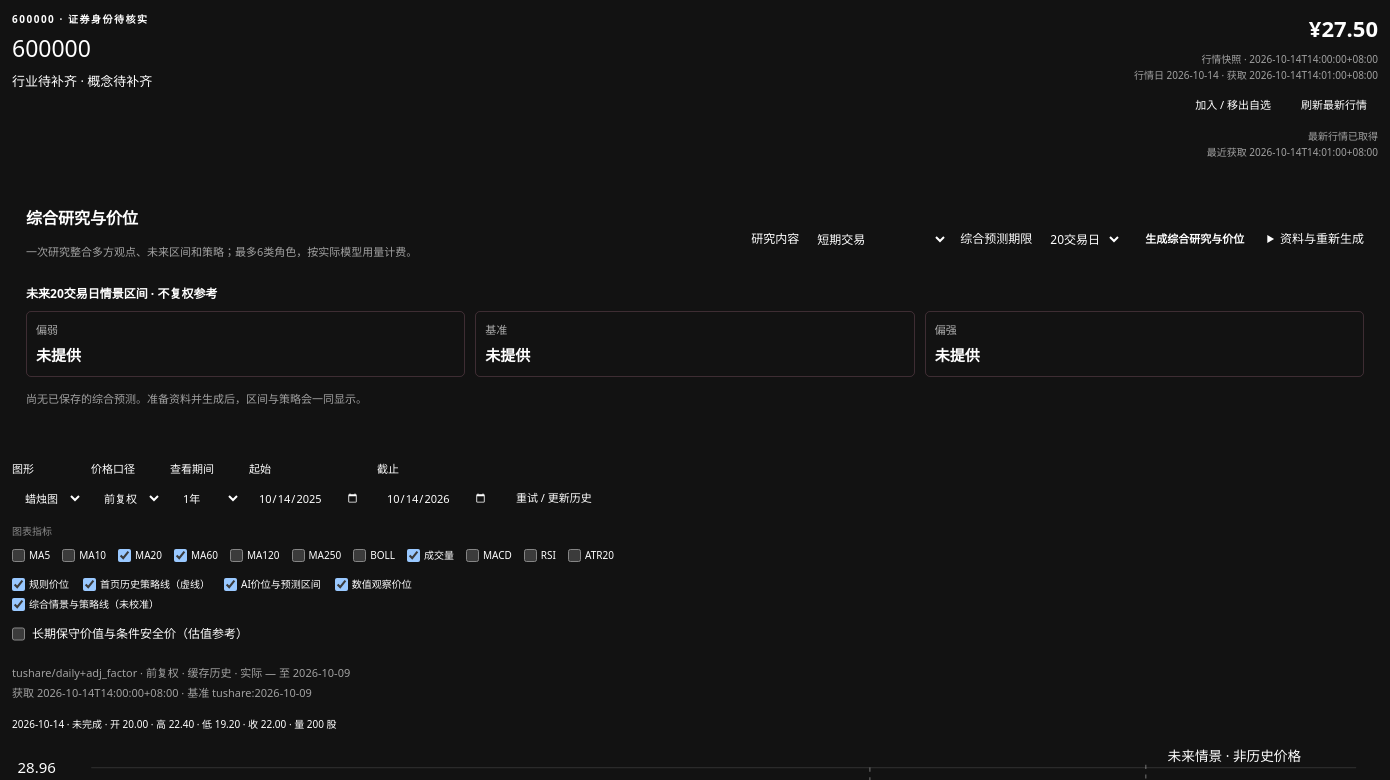
Test: keeps already obtained quote and temporary bar after a refresh error
Click the button "刷新最新行情": (1334, 105) top-left (1290, 89), bottom-right (1378, 122)
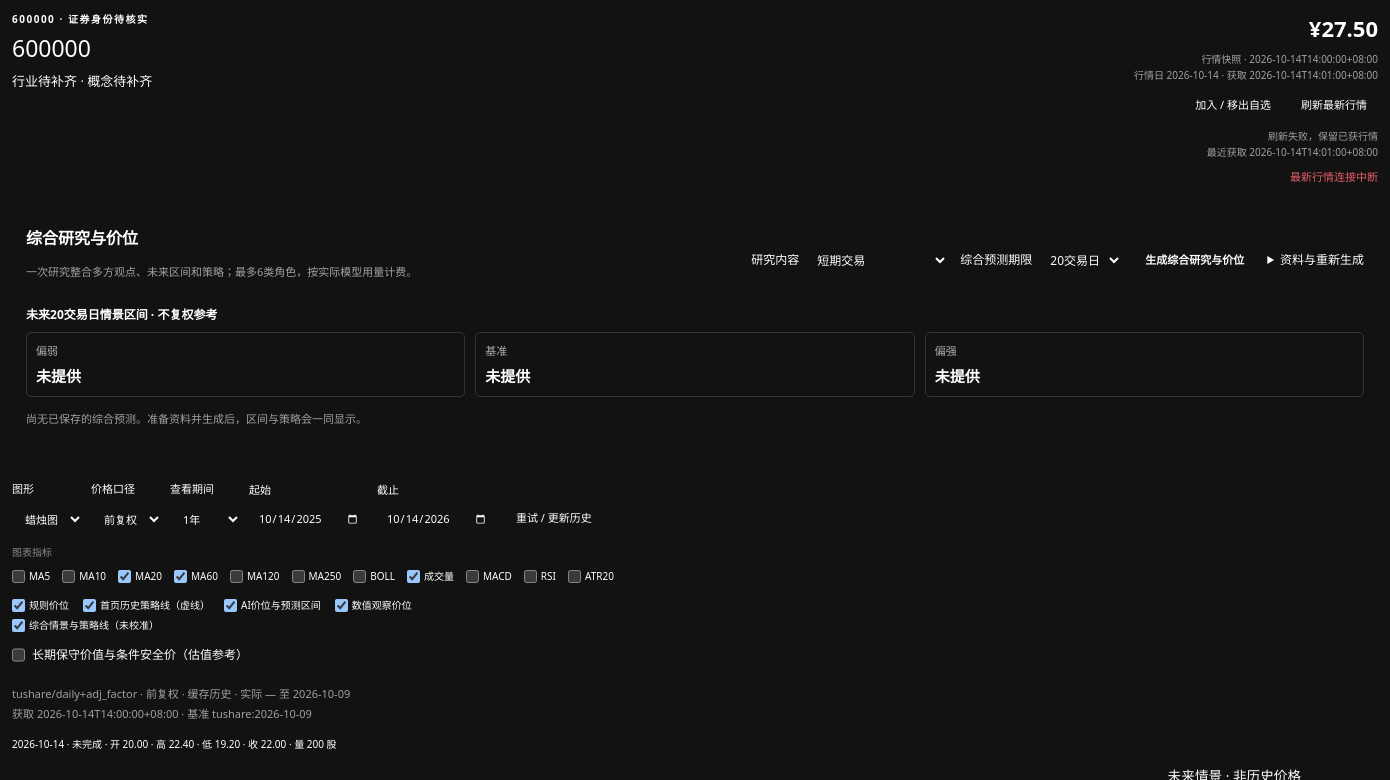
Expected: the text with class "am-quote" reads "¥27.50", top-left (1309, 13), bottom-right (1378, 43)
Expected: the message "最新行情连接中断" is shown, top-left (1290, 168), bottom-right (1378, 184)
